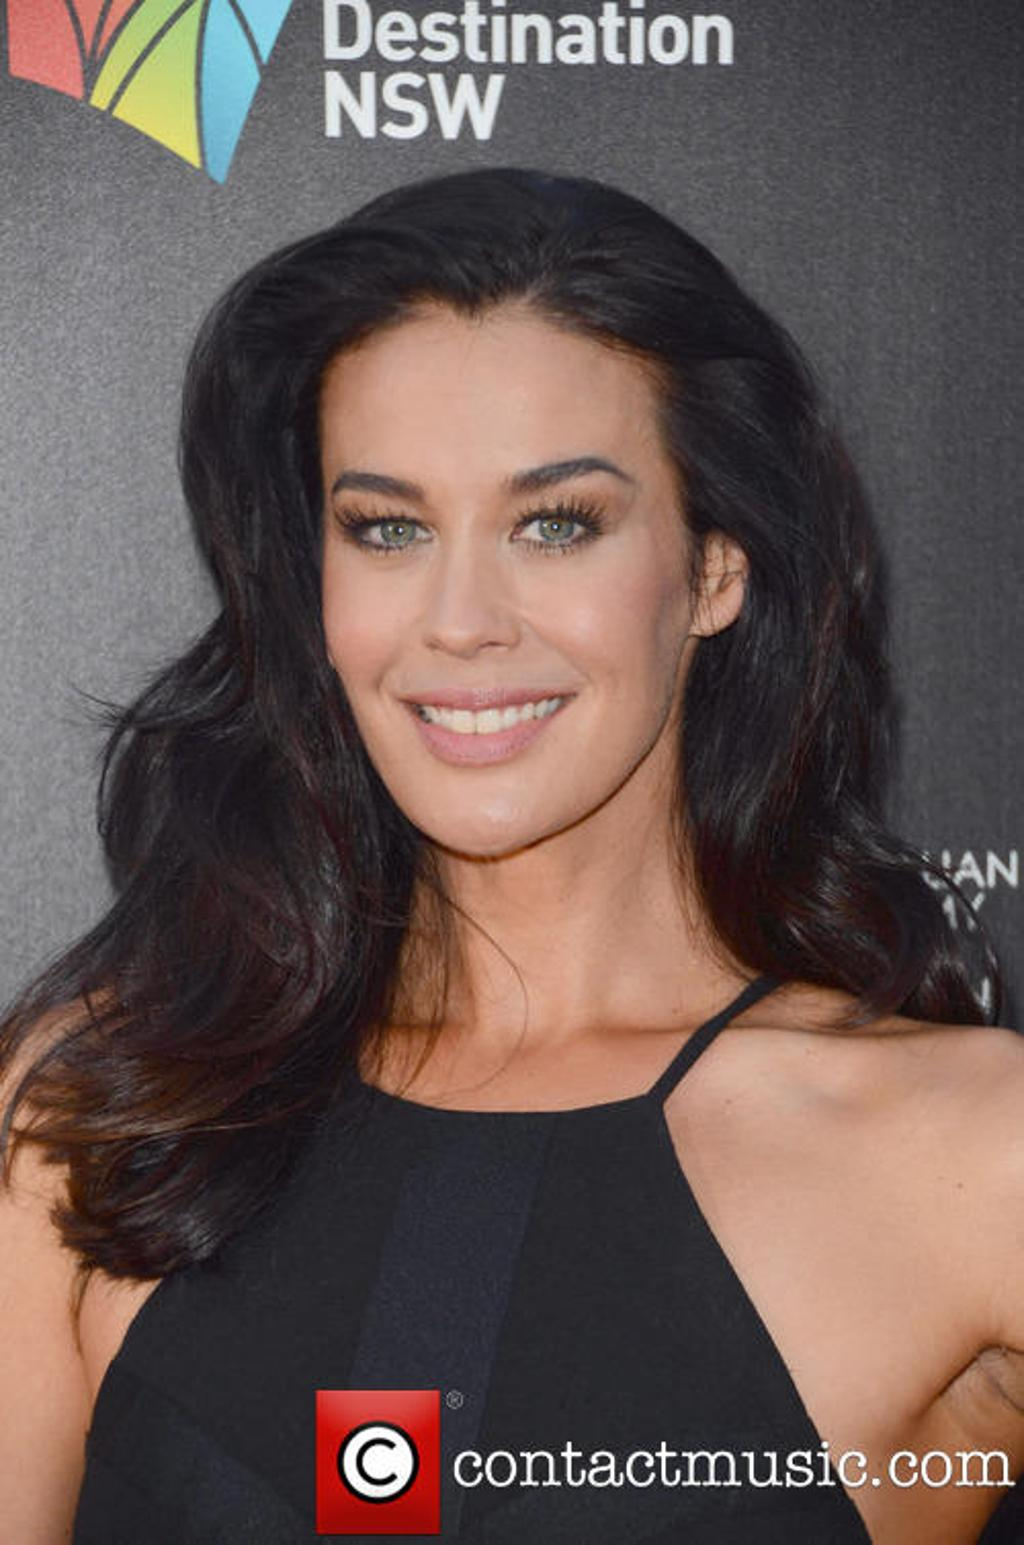face: (313, 307, 689, 846)
